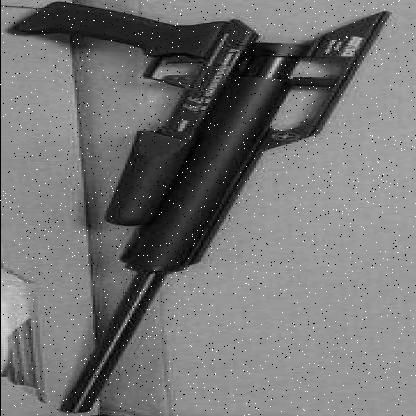rifle: (2, 7, 391, 275)
